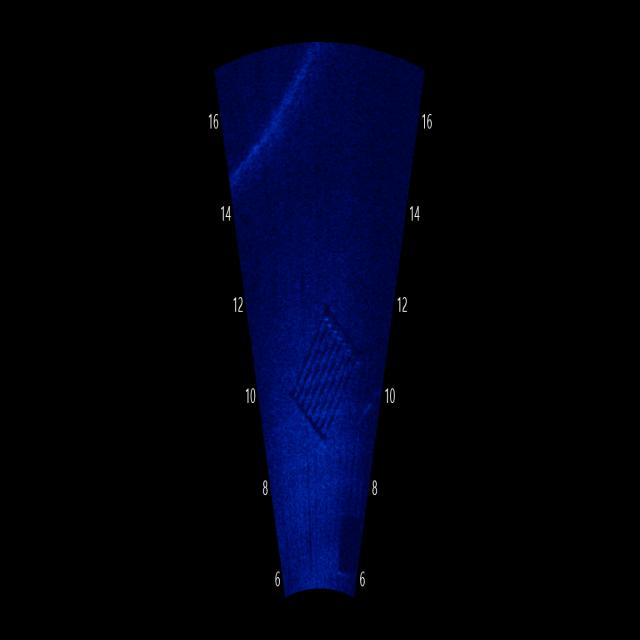square: (286, 294, 366, 457)
